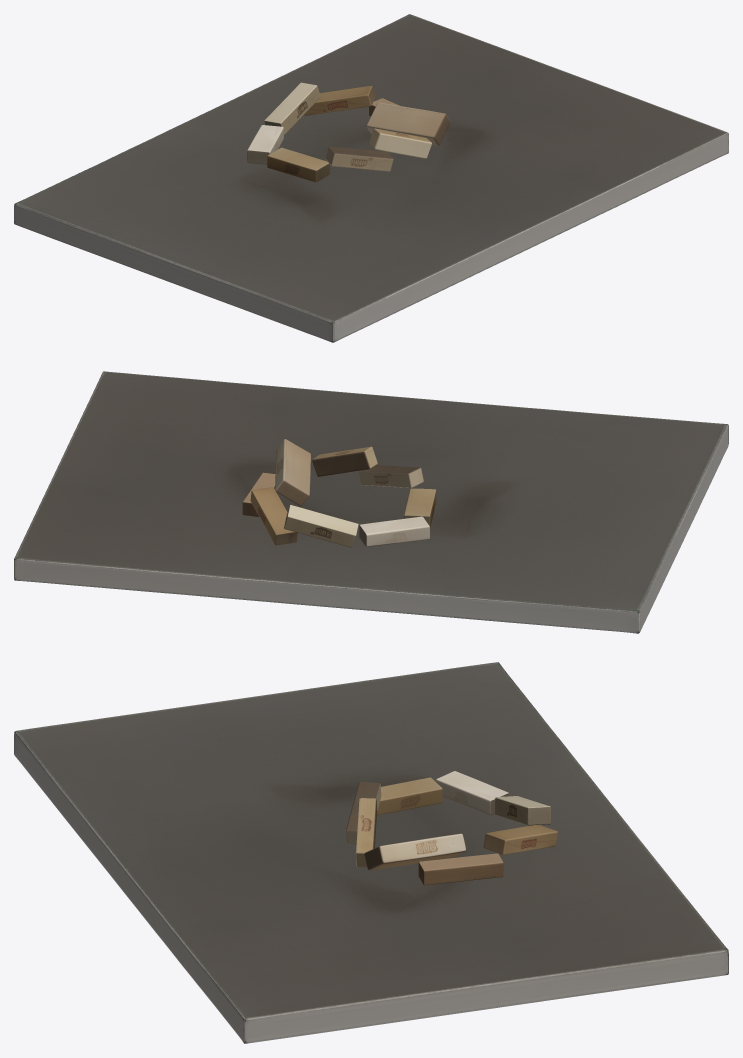
3 views of the same model, one above another, from view 1: azimuth 30°, elevation 25°; view 2: azimuth 150°, elevation 25°; view 3: azimuth 270°, elevation 25° (orthographic). The views are drawn at different scales.
Parts seen in each view (by area): view 1: node-2, node-9, node-10, node-4, node-8, node-3, node-7, node-6; view 2: node-2, node-9, node-4, node-6, node-3, node-7, node-8, node-10, node-5; view 3: node-2, node-9, node-5, node-6, node-10, node-3, node-4, node-7, node-8.
Part boxes in pixels (x1,y1,x2,y2): node-2: [14, 14, 728, 342]; node-9: [366, 102, 450, 145]; node-10: [267, 147, 330, 182]; node-4: [264, 82, 320, 134]; node-8: [325, 146, 393, 171]; node-3: [304, 86, 375, 115]; node-7: [368, 128, 431, 158]; node-6: [247, 125, 283, 164]; node-2: [14, 371, 728, 633]; node-9: [275, 439, 310, 506]; node-4: [284, 505, 358, 547]; node-6: [359, 516, 429, 546]; node-3: [250, 487, 297, 545]; node-7: [312, 446, 377, 476]; node-8: [358, 465, 423, 487]; node-10: [404, 488, 436, 528]; node-5: [242, 472, 277, 516]; node-2: [14, 662, 728, 1043]; node-9: [364, 833, 465, 870]; node-5: [418, 853, 503, 885]; node-6: [436, 771, 509, 815]; node-10: [377, 777, 442, 815]; node-3: [483, 825, 557, 854]; node-4: [495, 796, 550, 825]; node-7: [355, 798, 377, 867]; node-8: [346, 781, 381, 843].
Bounding box in the file's own units: 0.9187 × 0.0873 × 0.7763.
9 materials, 9 textured.
